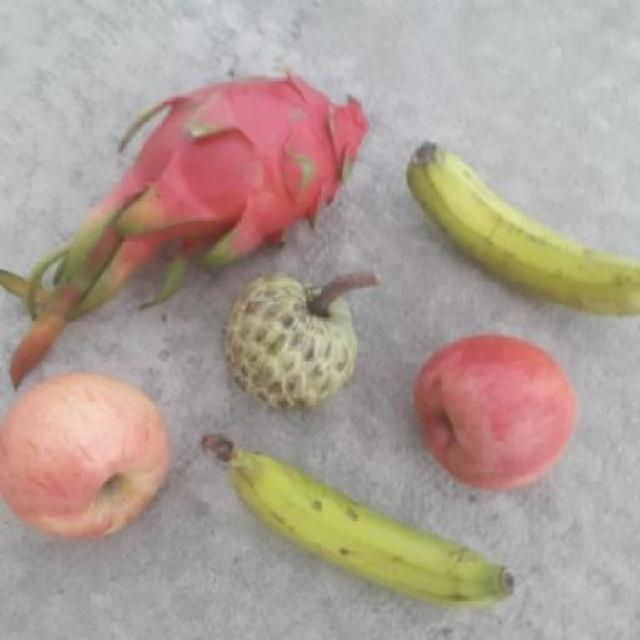apple: (2, 368, 176, 544), (416, 331, 586, 494)
banana: (202, 434, 523, 612), (406, 131, 640, 314)
dragon fruit: (377, 0, 637, 206)
sugar apple: (218, 272, 374, 416)
